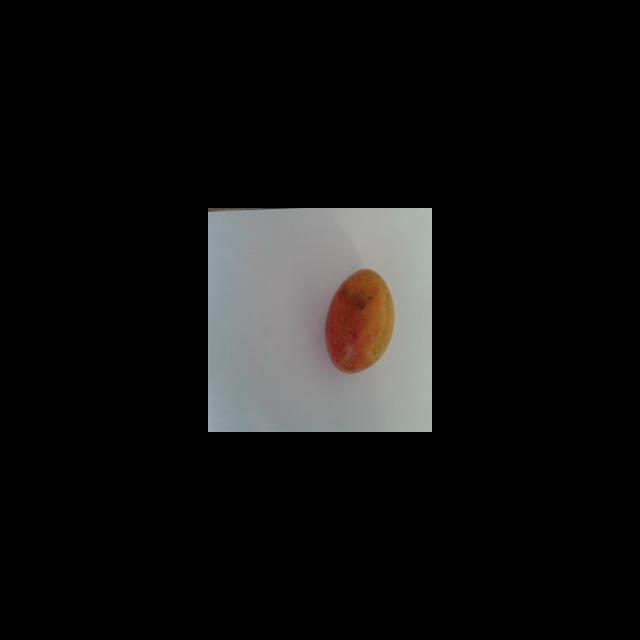Mango: (324, 267, 394, 373)
